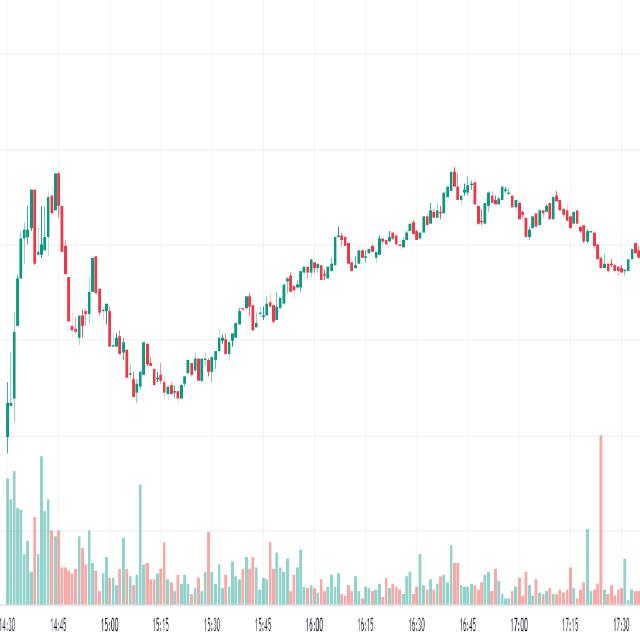Ascending-Triangle: (32, 165, 77, 298)
